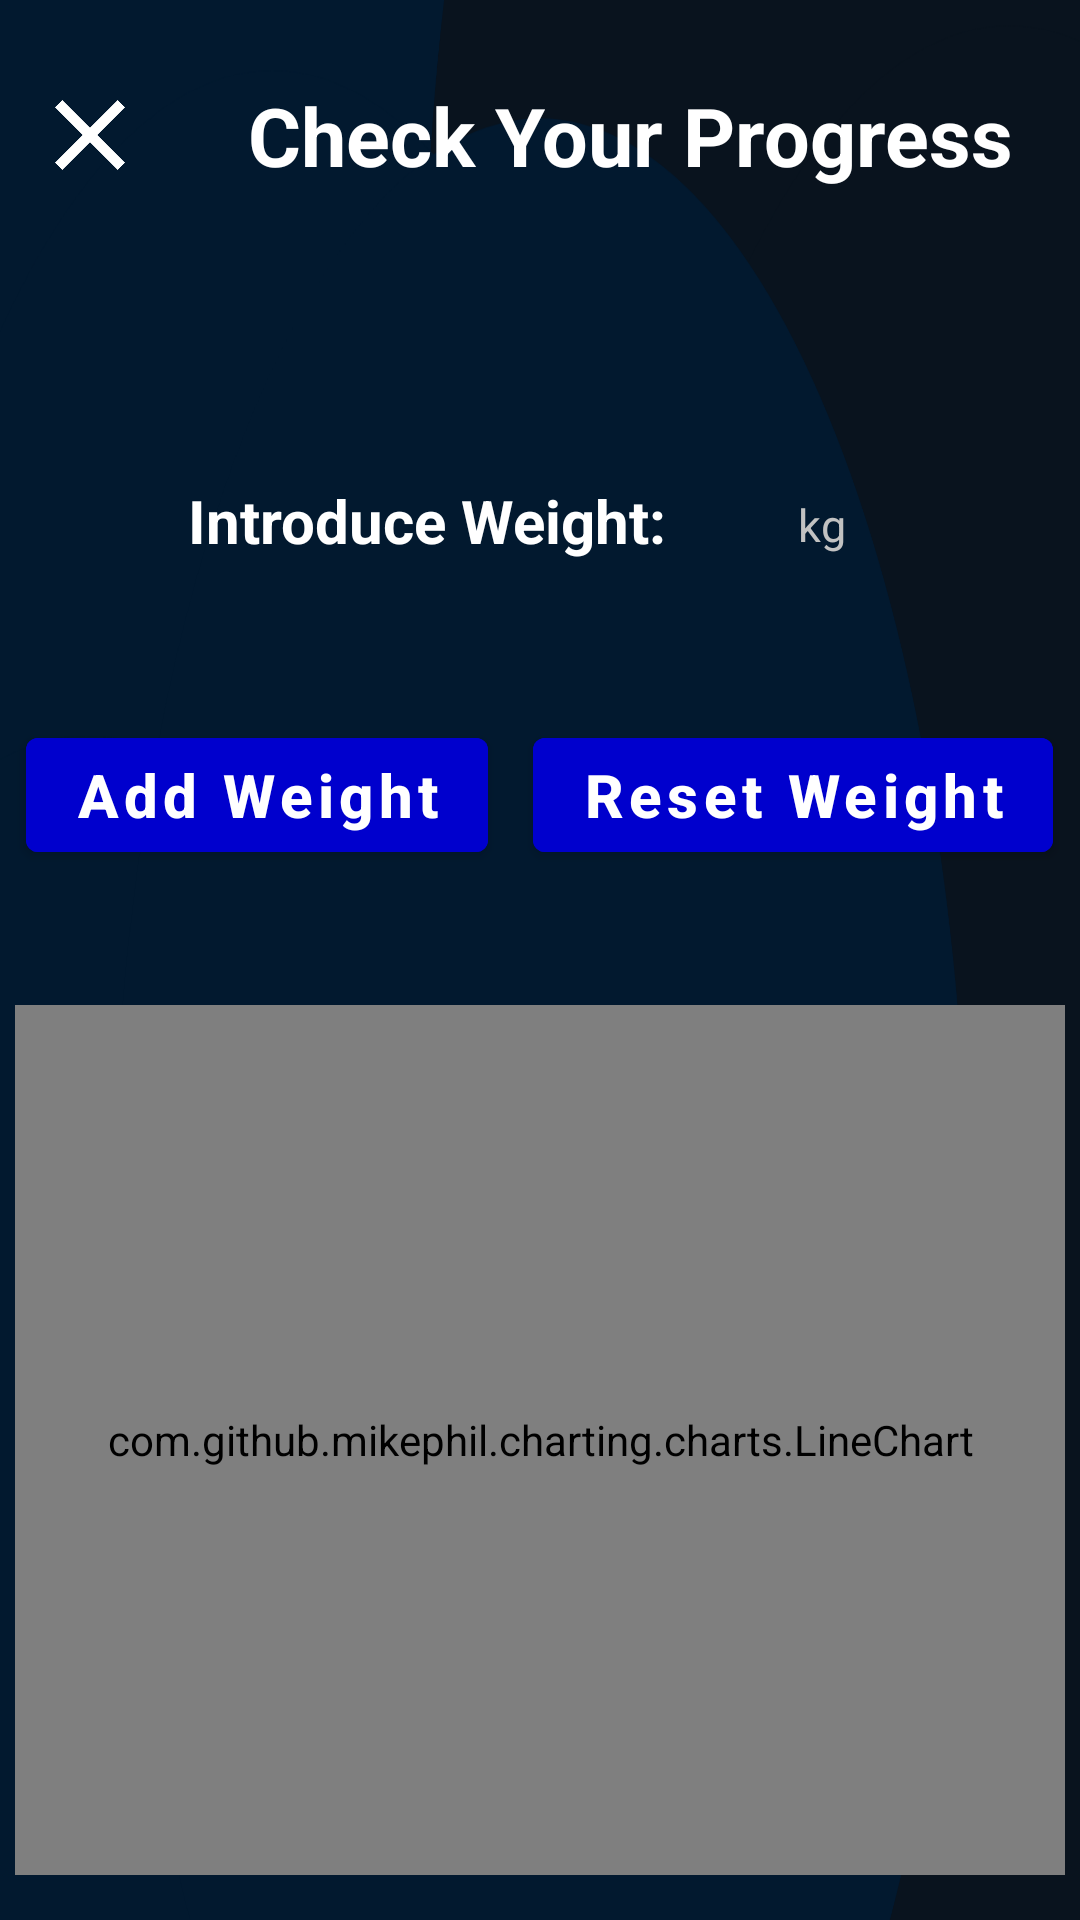

Screen size 1080px x 1920px. Icon name, then its center in pixels as [x,y]:
close: [90,135]
